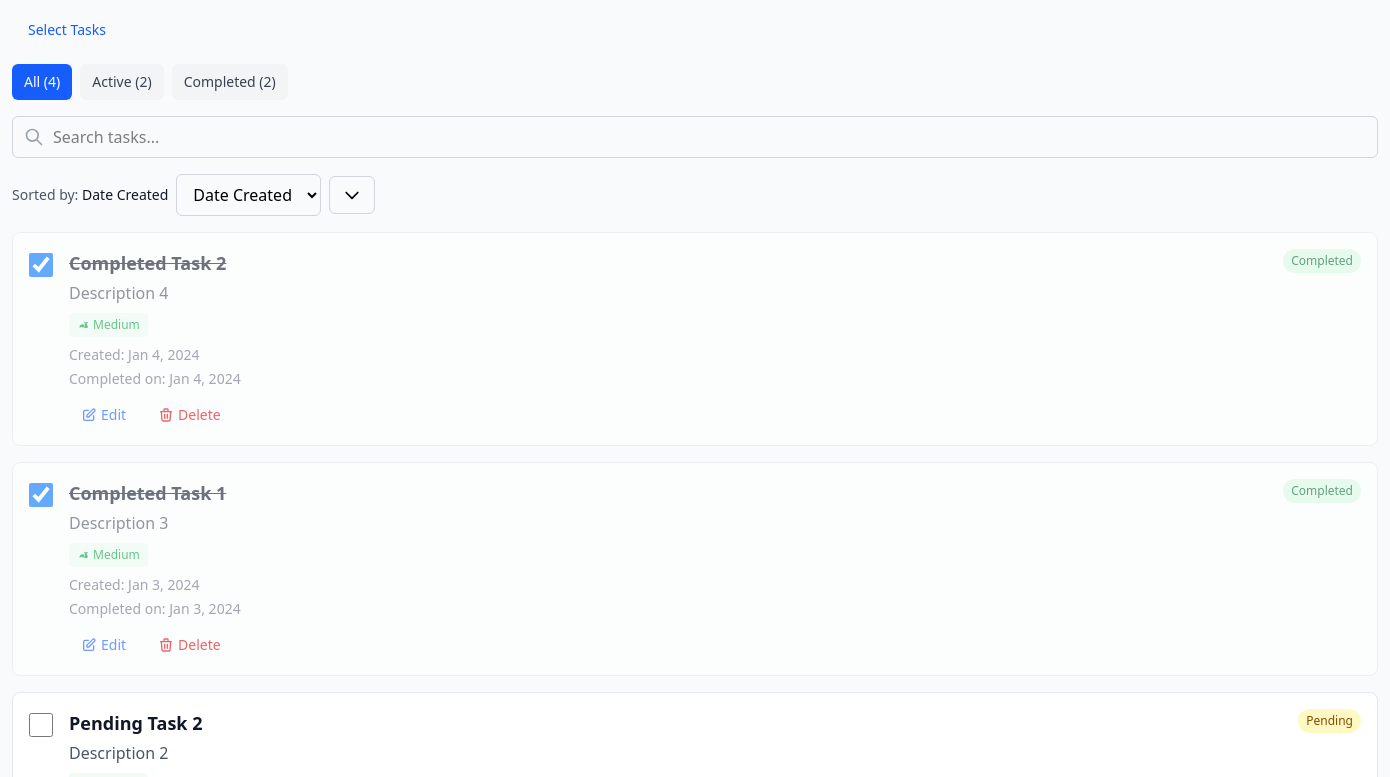
Test: User Story 2.2: Filter Tasks UI › Filter Interaction › should filter to show only completed tasks when Completed is clicked
Click the button with aria-label "completed tasks" at (230,82), box x1=172 y1=64 x2=288 y2=100
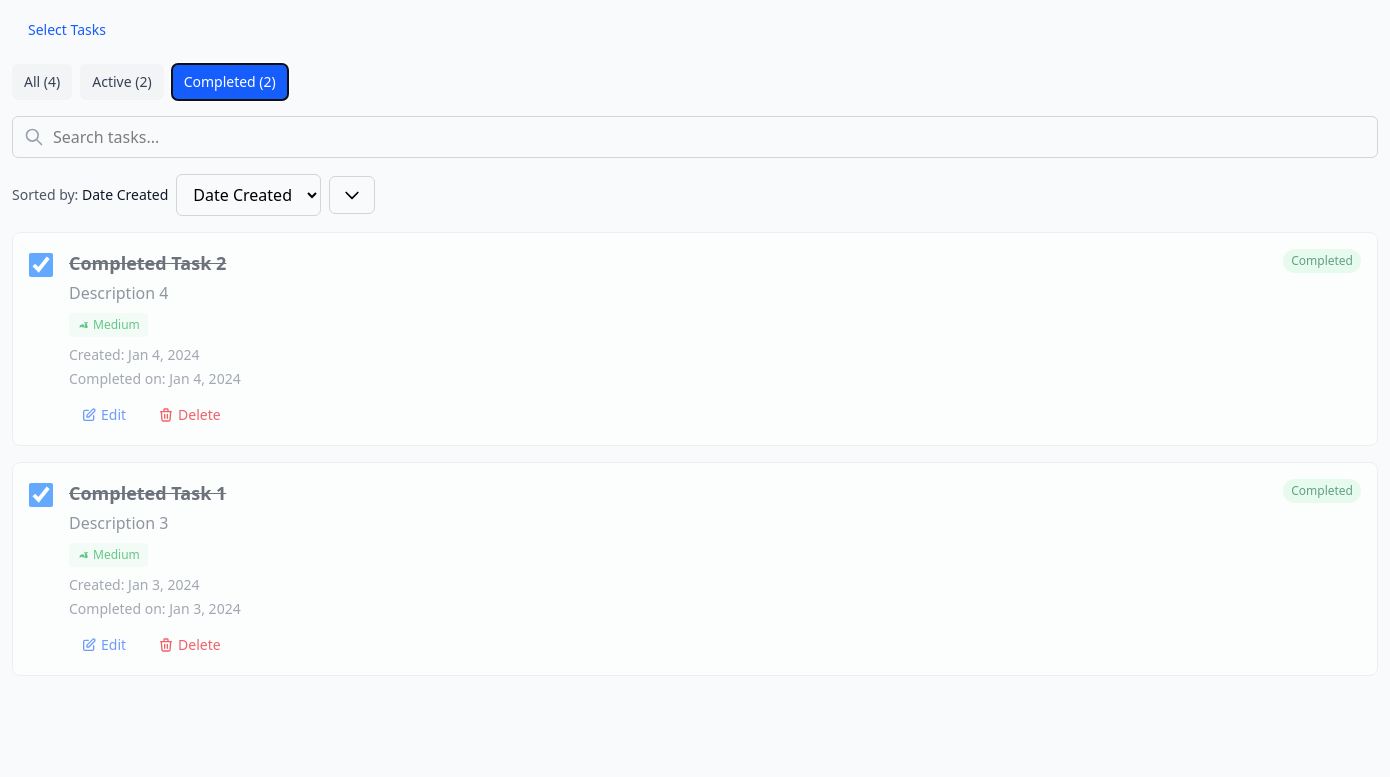
Expected: the heading "Completed Task 1" is shown, x1=69 y1=479 x2=226 y2=507
Now the heading "Pending Task 2" is gone
